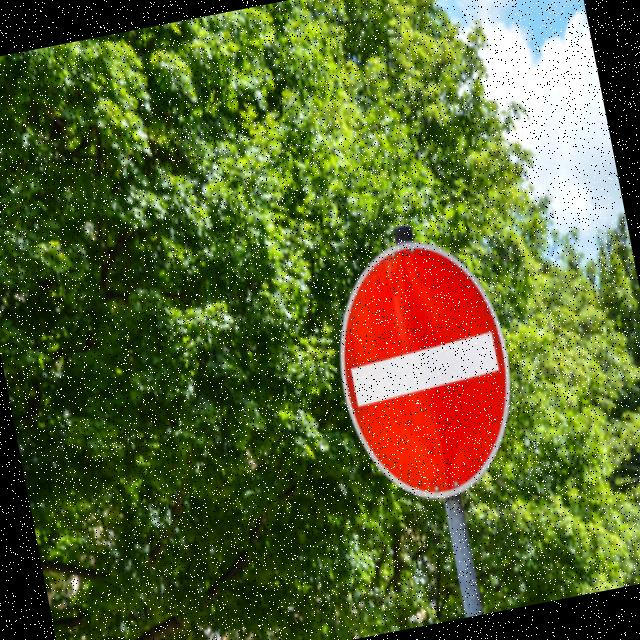do_not_enter: (311, 222, 538, 520)
